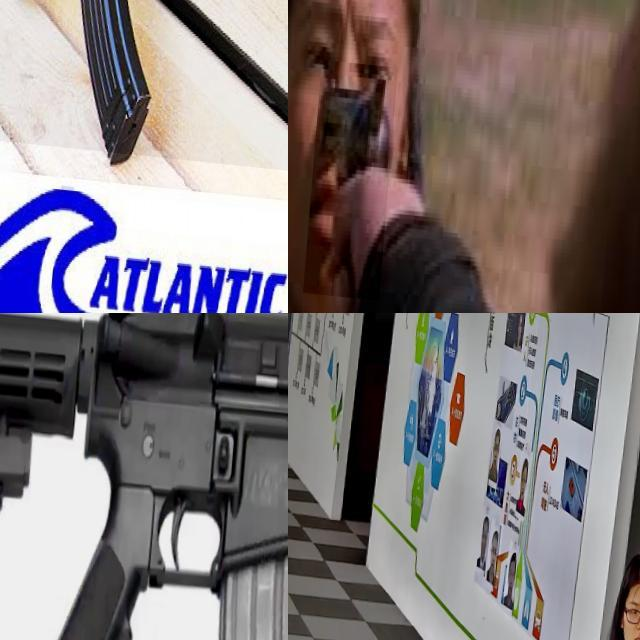gun-knife-thesis - v11 Yolov5 augmented: (0, 313, 288, 640), (0, 0, 288, 238), (311, 57, 402, 296)
